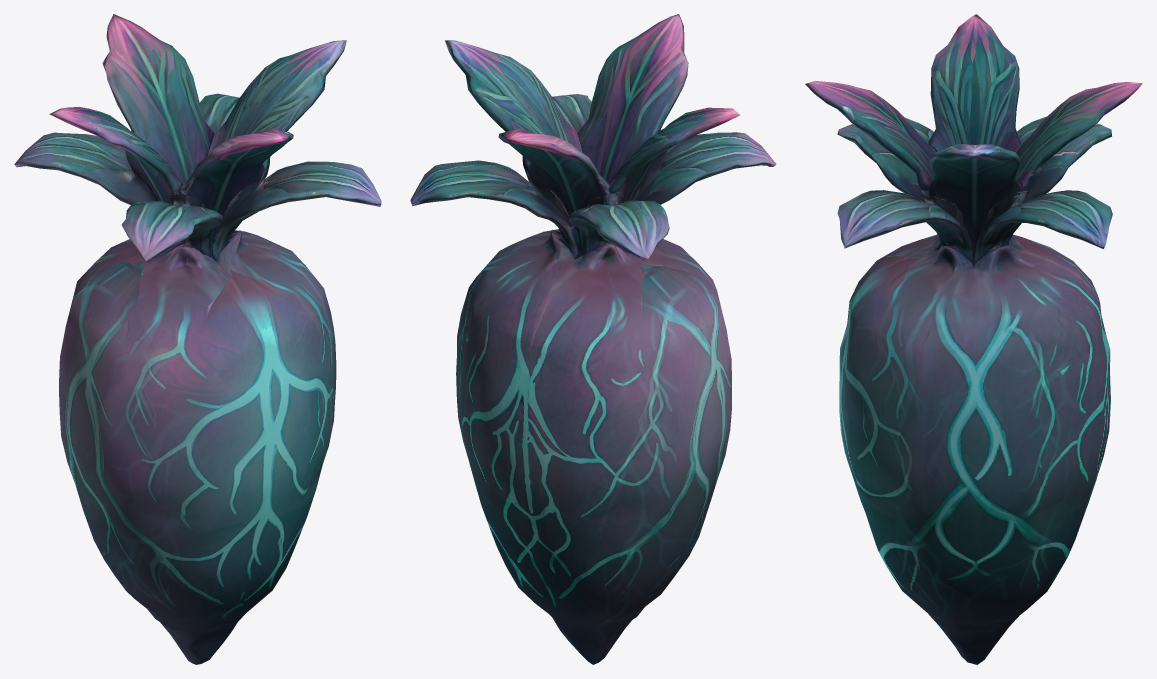
File: Alien_Glowing_Plant_2163.fbx
The picture shows the model from 3 angles, left to right: view 1: azimuth 30°, elevation 25°; view 2: azimuth 150°, elevation 25°; view 3: azimuth 270°, elevation 25°; orthographic projection.
Parts seen in each view (by area): view 1: Alien_Glowing_Plant_2163; view 2: Alien_Glowing_Plant_2163; view 3: Alien_Glowing_Plant_2163.
Boxes of the visible parts, box(x1,y1,x2,y2) form: Alien_Glowing_Plant_2163: box(14, 14, 381, 664); Alien_Glowing_Plant_2163: box(410, 14, 776, 664); Alien_Glowing_Plant_2163: box(805, 14, 1142, 664).
Size of the model in its own units: 0.3165 by 0.6 by 0.3156.
Materials: 1 (1 with a texture image).
